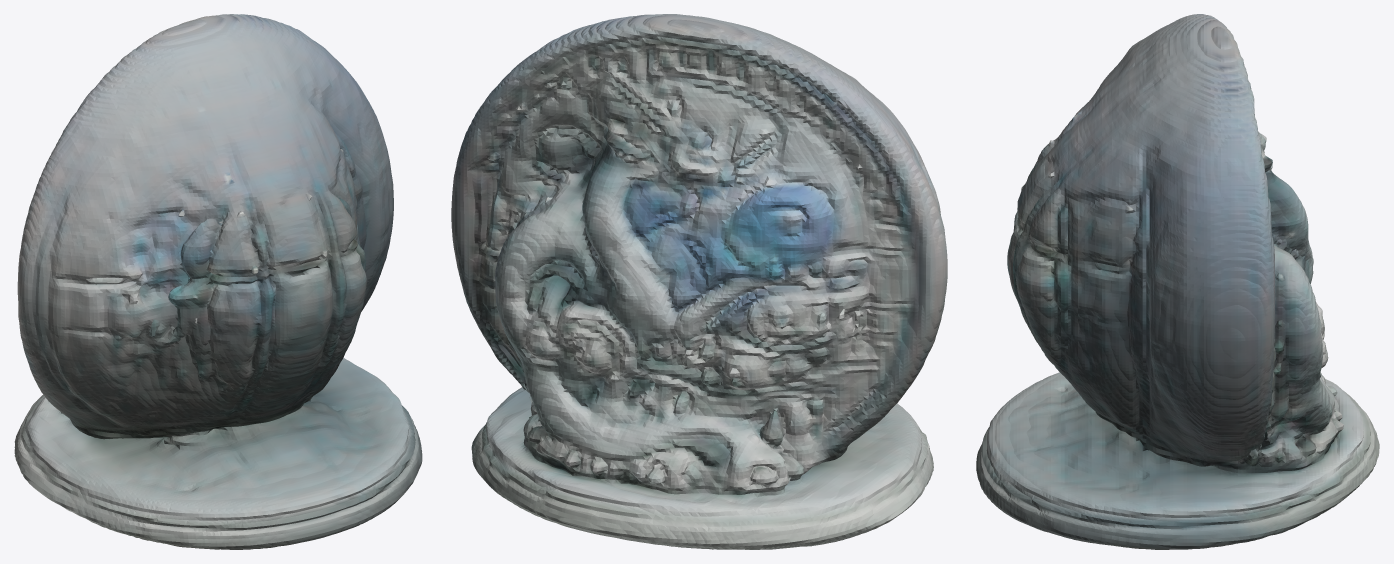
3 views of the same model, side by side, from view 1: azimuth 30°, elevation 25°; view 2: azimuth 150°, elevation 25°; view 3: azimuth 270°, elevation 25° (orthographic). The views are drawn at different scales.
Visible parts, largest first — view 1: world; view 2: world; view 3: world.
Boxes of the visible parts, box(x1,y1,x2,y2) form: world: box(14, 14, 422, 549); world: box(451, 14, 947, 549); world: box(976, 14, 1379, 549).
Bounding box in the file's own units: 0.9237 × 0.9654 × 0.8093.
